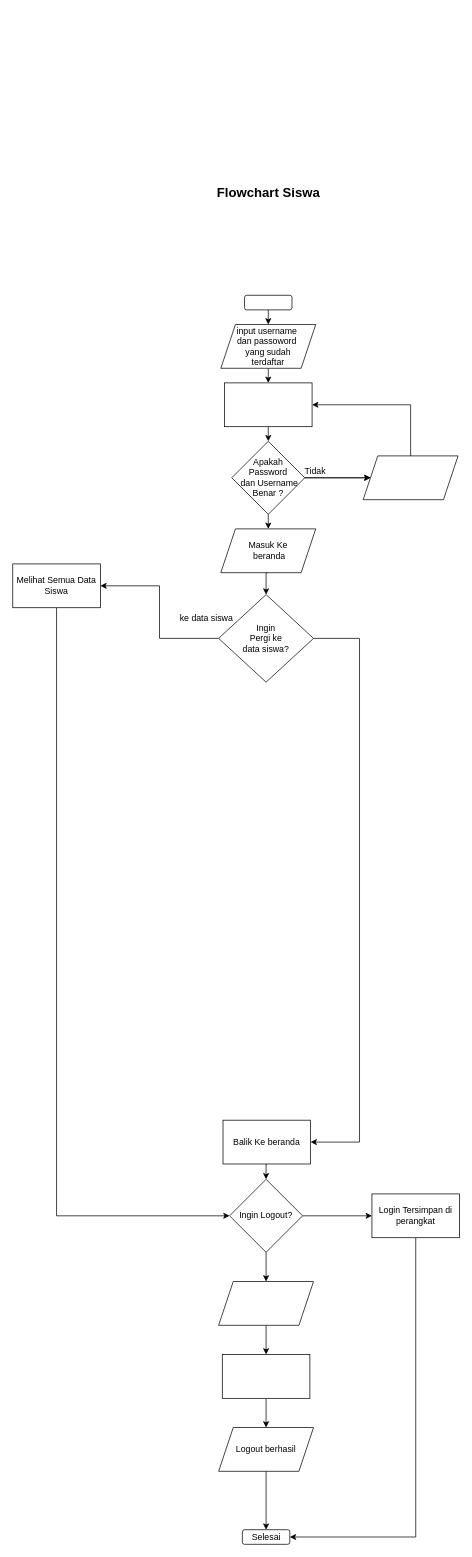
This 472x1557 diagram has some shape labels left out. The shapes that lost their labels are listed below. From the top down, each one's centre as x and y in pixels, then its label:
At [268,302]: "Mulai".
At [268,404]: "Sistem Melakukan Validasi".
At [410,477]: "Input Ulang Username dan Passowrd".
At [266,1303]: "Logout akun".
At [266,1376]: "Selesai Menggunakan Akun".
